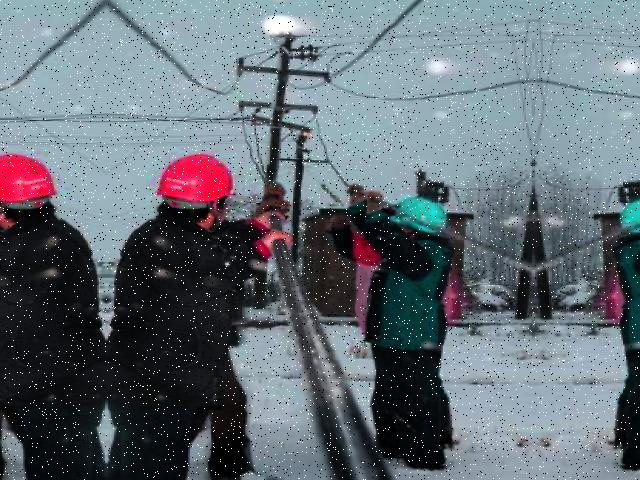Helmet: (155, 148, 239, 210), (2, 149, 64, 209), (388, 189, 452, 235)
